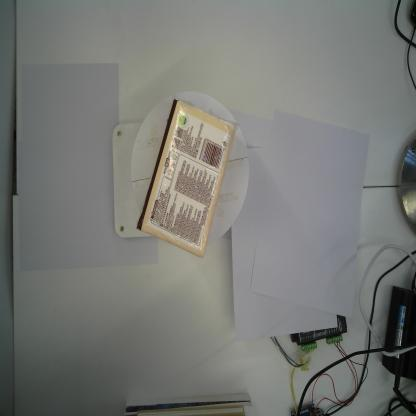Tissue: (136, 98, 236, 258)
